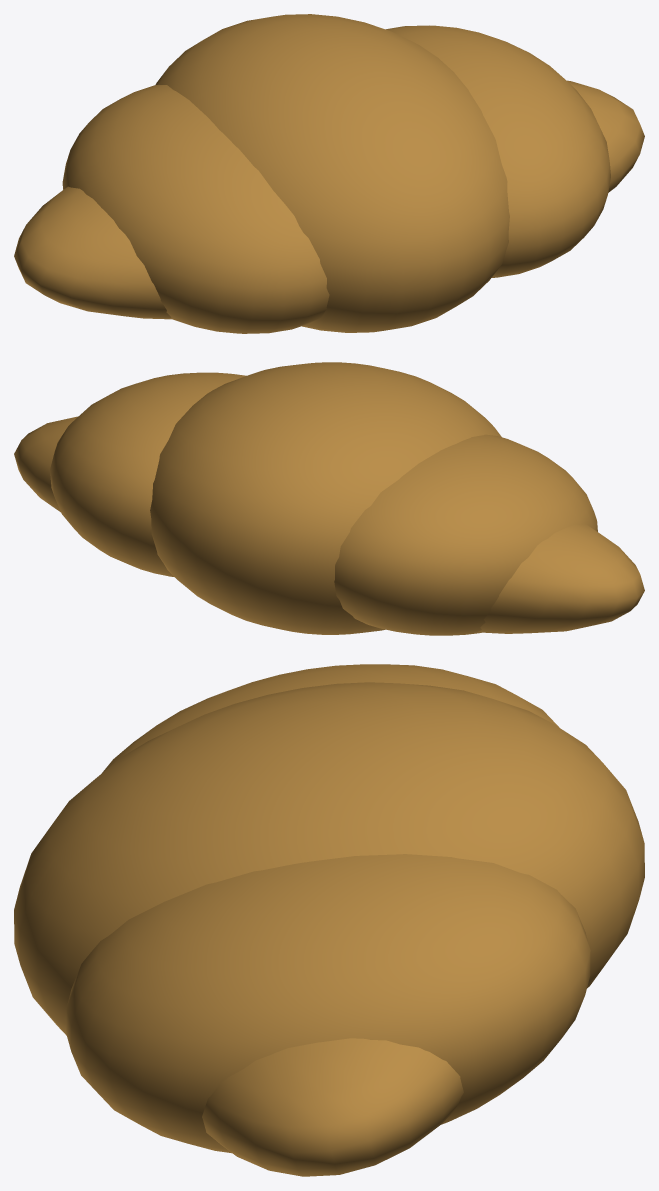
The model's file is Bread04.fbx.
The picture shows the model from 3 angles, top to bottom: view 1: azimuth 30°, elevation 25°; view 2: azimuth 150°, elevation 25°; view 3: azimuth 270°, elevation 25°; orthographic projection. The views are drawn at different scales.
Parts seen in each view (by area): view 1: Crossiant.001; view 2: Crossiant.001; view 3: Crossiant.001.
Boxes of the visible parts, box(x1,y1,x2,y2) form: Crossiant.001: box(14, 14, 644, 333); Crossiant.001: box(14, 362, 644, 635); Crossiant.001: box(14, 664, 644, 1176).
Bounding box in the file's own units: 25.38 × 9.4 × 15.24.
